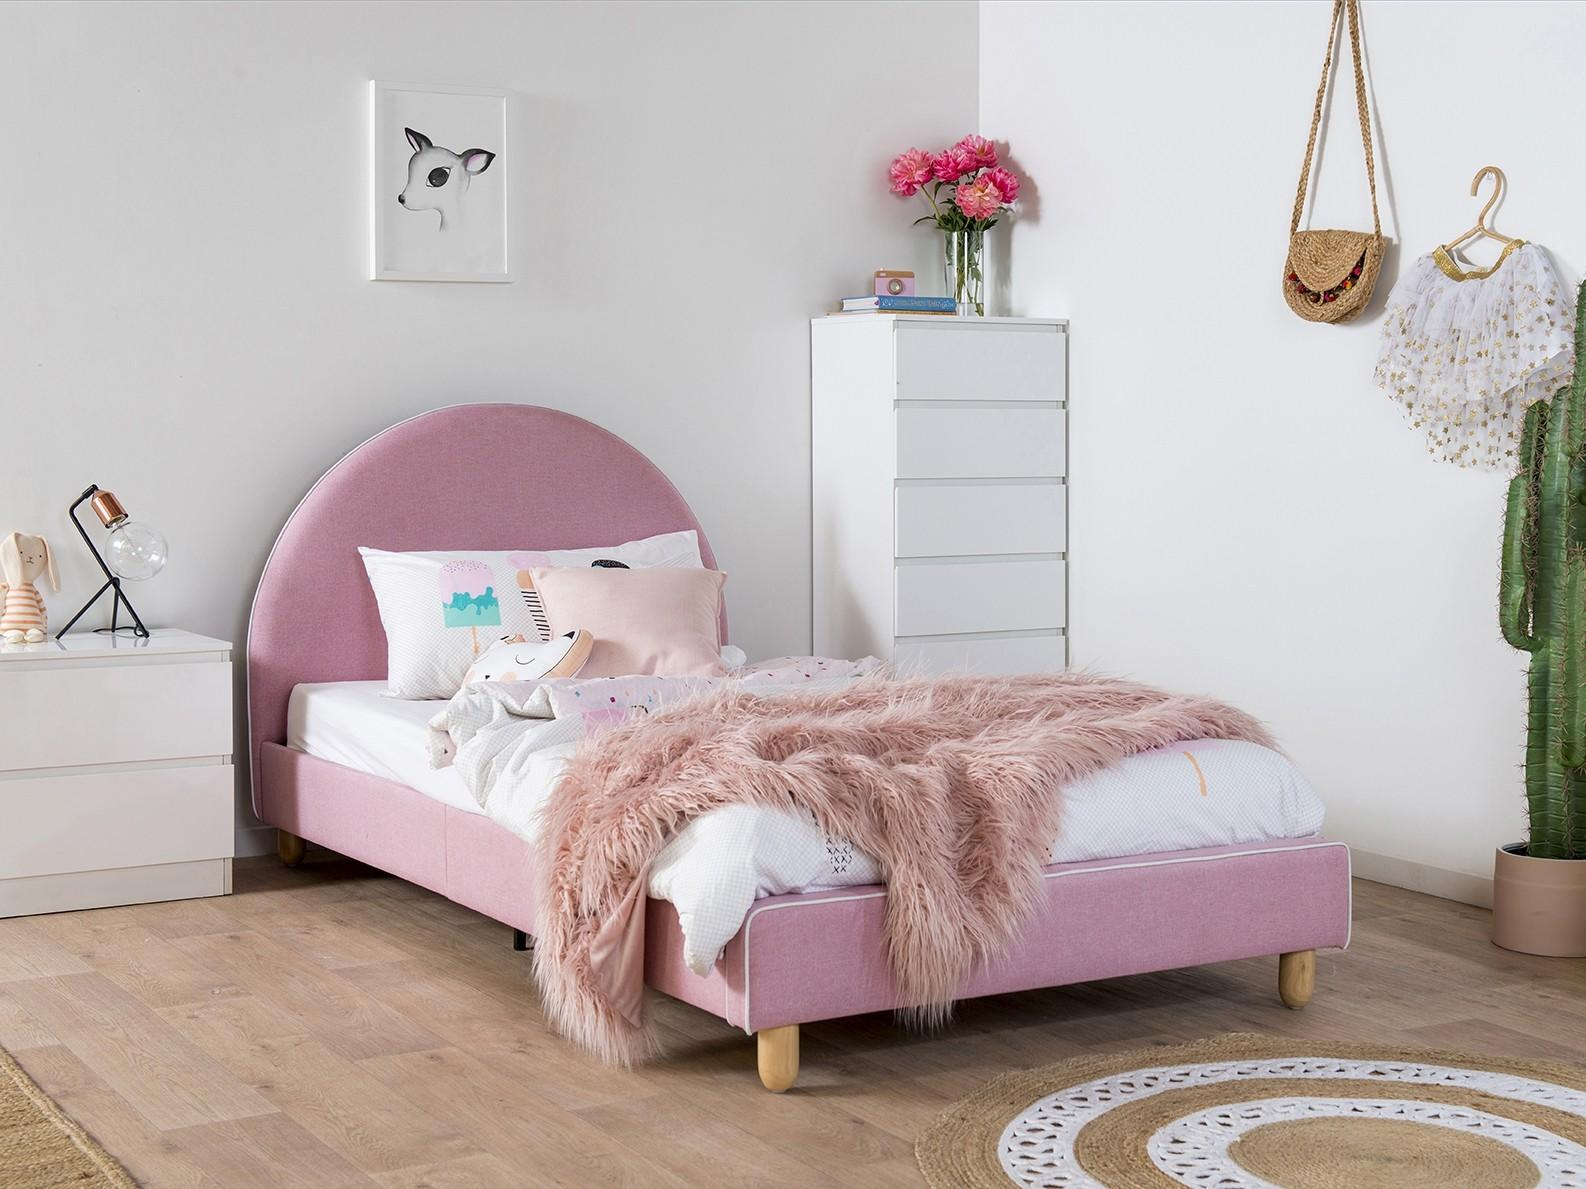bed: (355, 395, 953, 1005)
